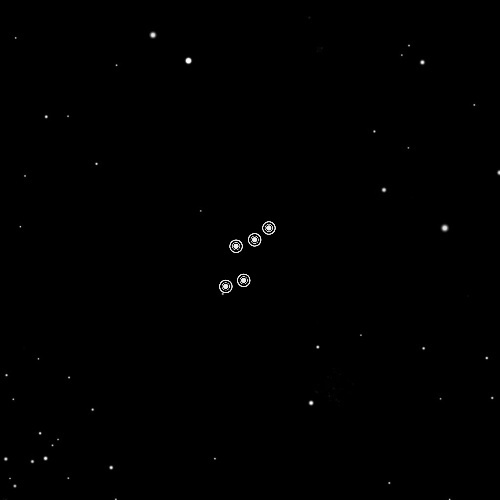lyra: (210, 213, 283, 301)
